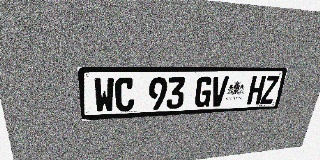3: (166, 77, 185, 109)
9: (148, 77, 168, 110)
C: (115, 77, 134, 112)
G: (194, 76, 213, 108)
H: (246, 76, 266, 105)
V: (209, 76, 229, 107)
W: (93, 78, 115, 113)
Z: (260, 76, 279, 104)
